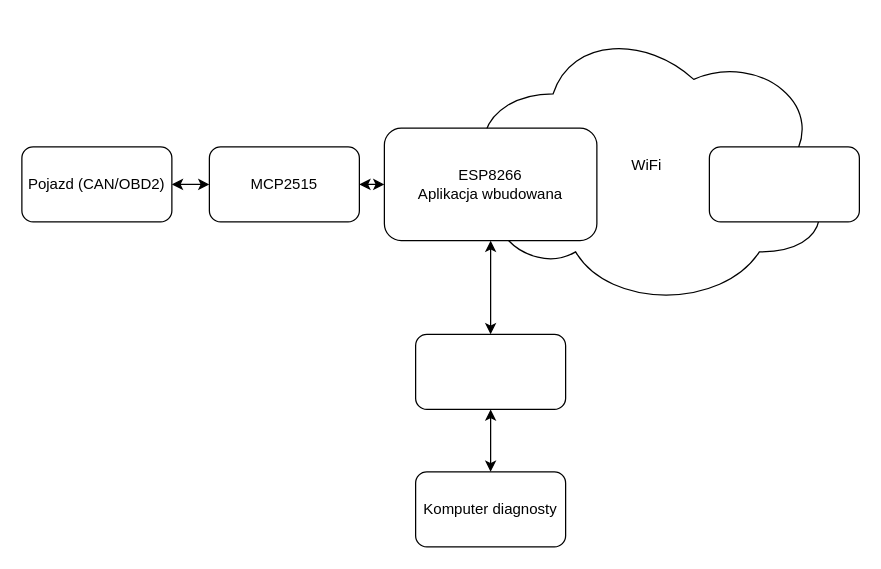
Some shapes in this 881 by 569 pixel diagram are drawn without their labels. The centre of each missing label's shape, as x and y in pixels:
"Aplikacja sieciowa" goes at (x=490, y=371).
"Smartfon" goes at (x=783, y=184).
